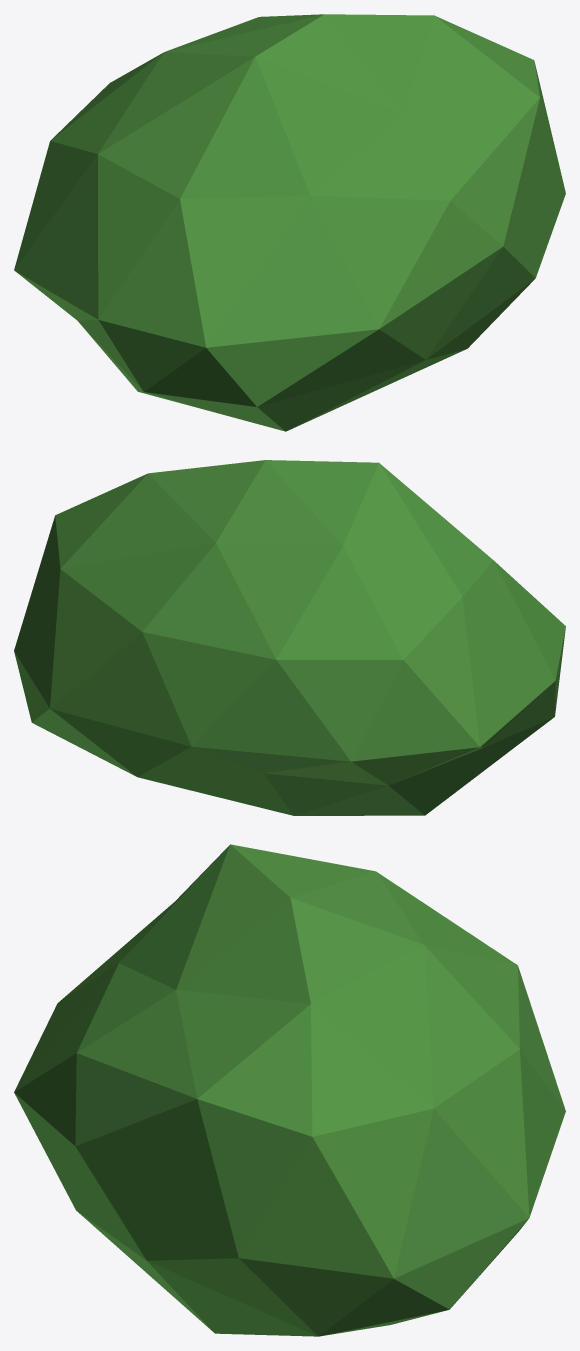
Rendered from bush_berries_empty.fbx.
The picture shows the model from 3 angles, top to bottom: view 1: azimuth 30°, elevation 25°; view 2: azimuth 150°, elevation 25°; view 3: azimuth 270°, elevation 25°; orthographic projection. The views are drawn at different scales.
Parts seen in each view (by area): view 1: bush_berries_empty_LOD0; view 2: bush_berries_empty_LOD0; view 3: bush_berries_empty_LOD0.
Boxes of the visible parts, box(x1,y1,x2,y2) form: bush_berries_empty_LOD0: box(14, 14, 565, 431); bush_berries_empty_LOD0: box(14, 460, 565, 815); bush_berries_empty_LOD0: box(14, 844, 565, 1336).
Size of what is drawn, in the model's own units: 219 by 142 by 187.
